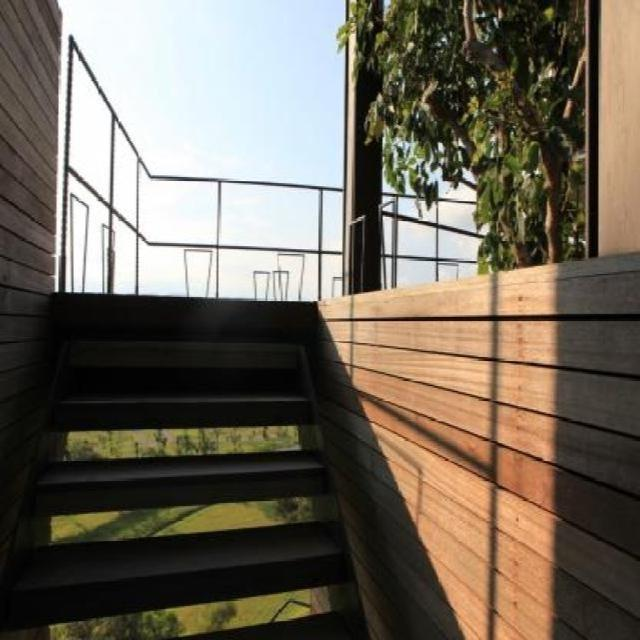stair: (0, 292, 373, 639)
